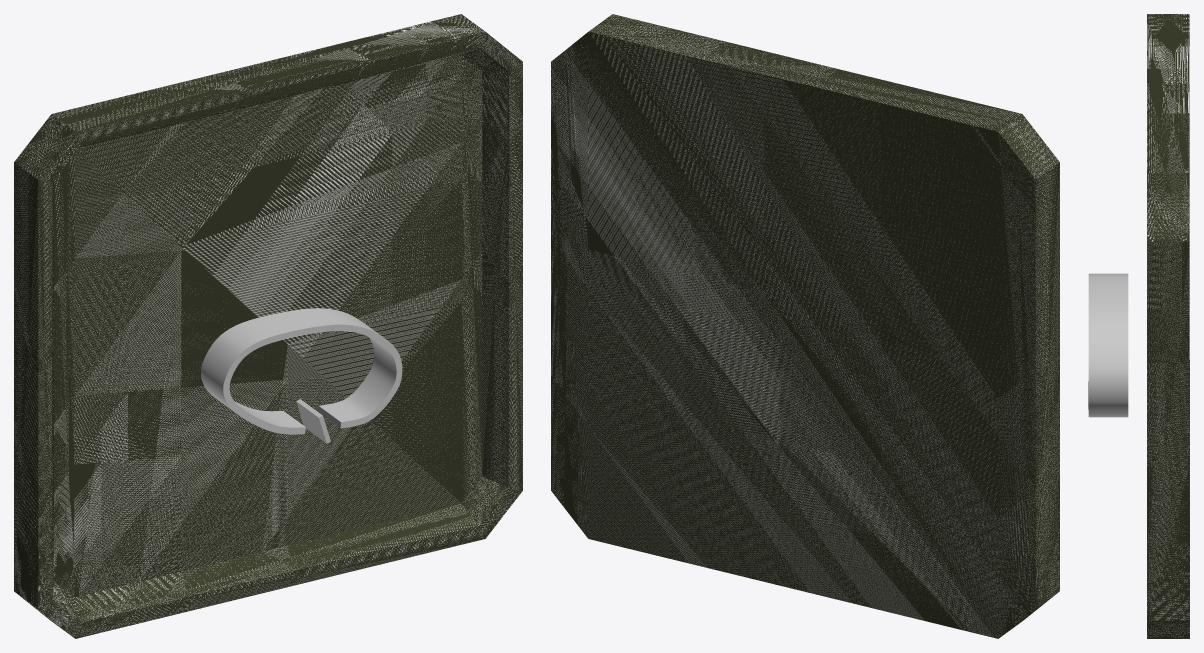
The model's file is CM_-_Bridge_Harbour.obj.
3 views of the same model, side by side, from view 1: azimuth 30°, elevation 25°; view 2: azimuth 150°, elevation 25°; view 3: azimuth 270°, elevation 25° (orthographic). The views are drawn at different scales.
Parts seen in each view (by area): view 1: Button.001_ID13, Button_ID3, SM_CM_-_Bridge_Harbour_path1763-2.077; view 2: Button_ID3; view 3: Button_ID3, SM_CM_-_Bridge_Harbour_path1763-2.077.
Boxes of the visible parts, left/top/right/bottom form: Button.001_ID13: left=52, top=48, right=508, bottom=622; Button_ID3: left=14, top=14, right=522, bottom=638; SM_CM_-_Bridge_Harbour_path1763-2.077: left=201, top=308, right=402, bottom=443; Button_ID3: left=551, top=14, right=1059, bottom=638; Button_ID3: left=1147, top=14, right=1189, bottom=638; SM_CM_-_Bridge_Harbour_path1763-2.077: left=1088, top=273, right=1128, bottom=417.
Bounding box in the file's own units: 1 × 1 × 0.2057.
